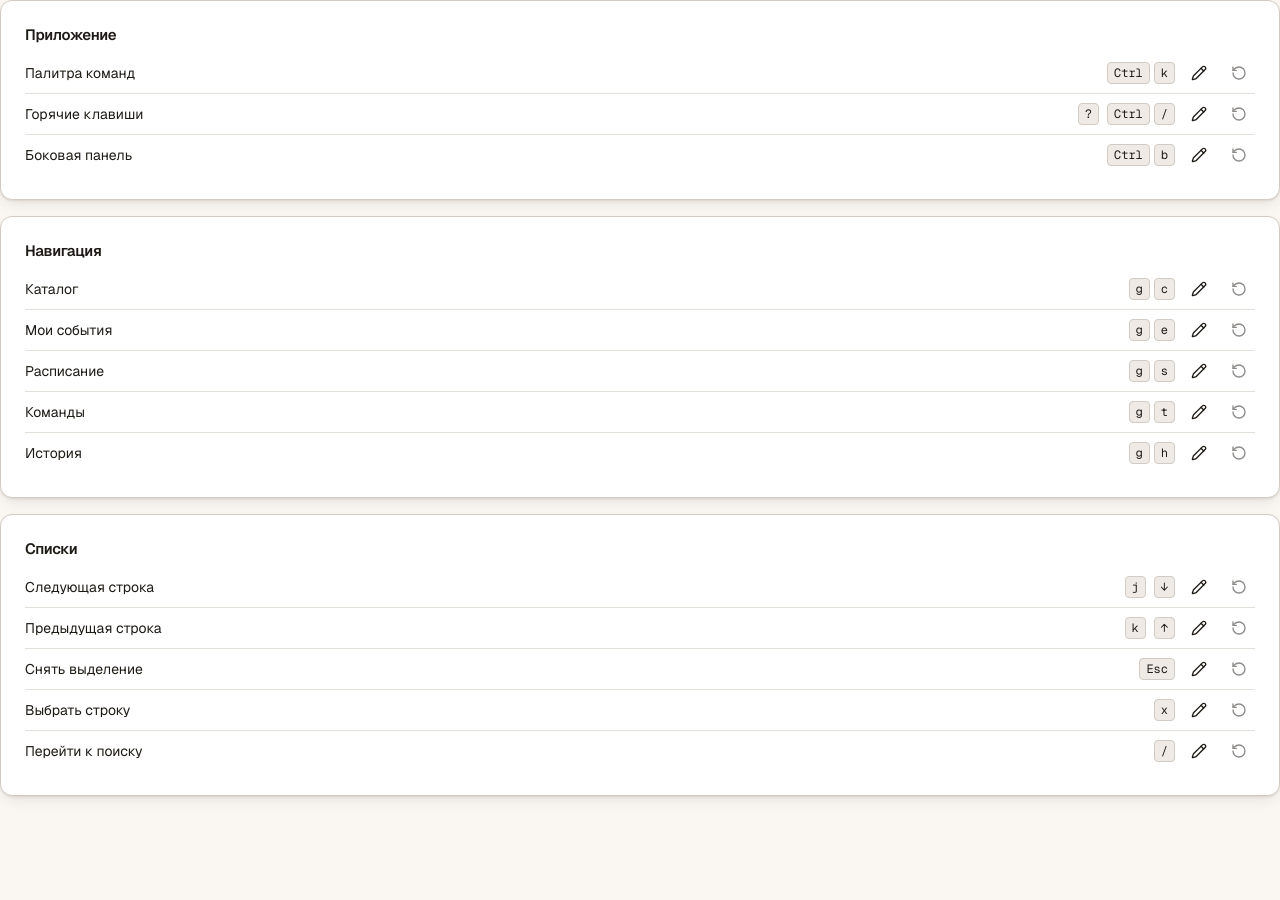
save, cancel and revert while recording › stores nothing when the cross is used instead, and puts the old keys back
Click the button named "Изменить «Палитра команд»". click: [1199, 73]
box: [1183,57,1215,89]
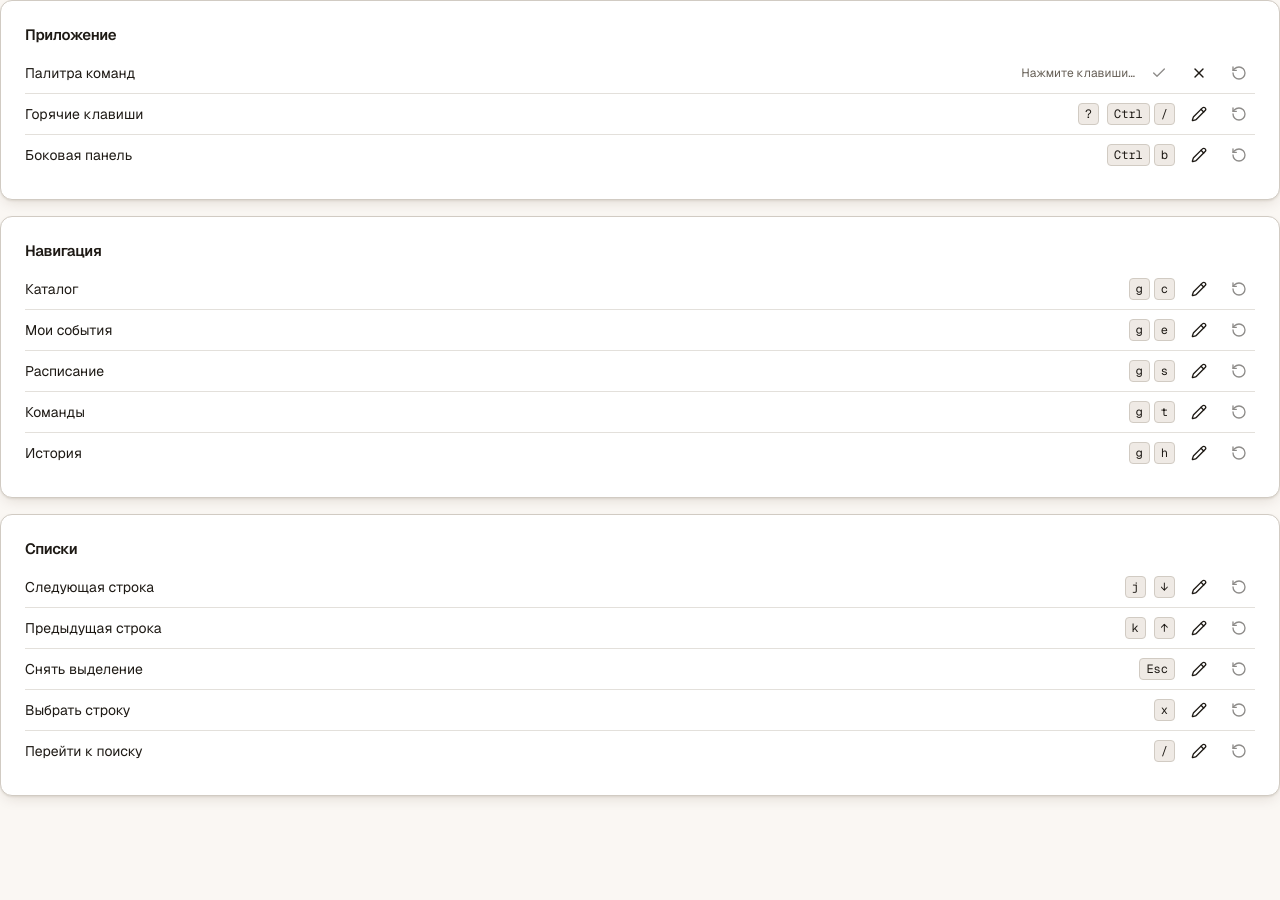
Type keys "{Control>}1{/Control}"
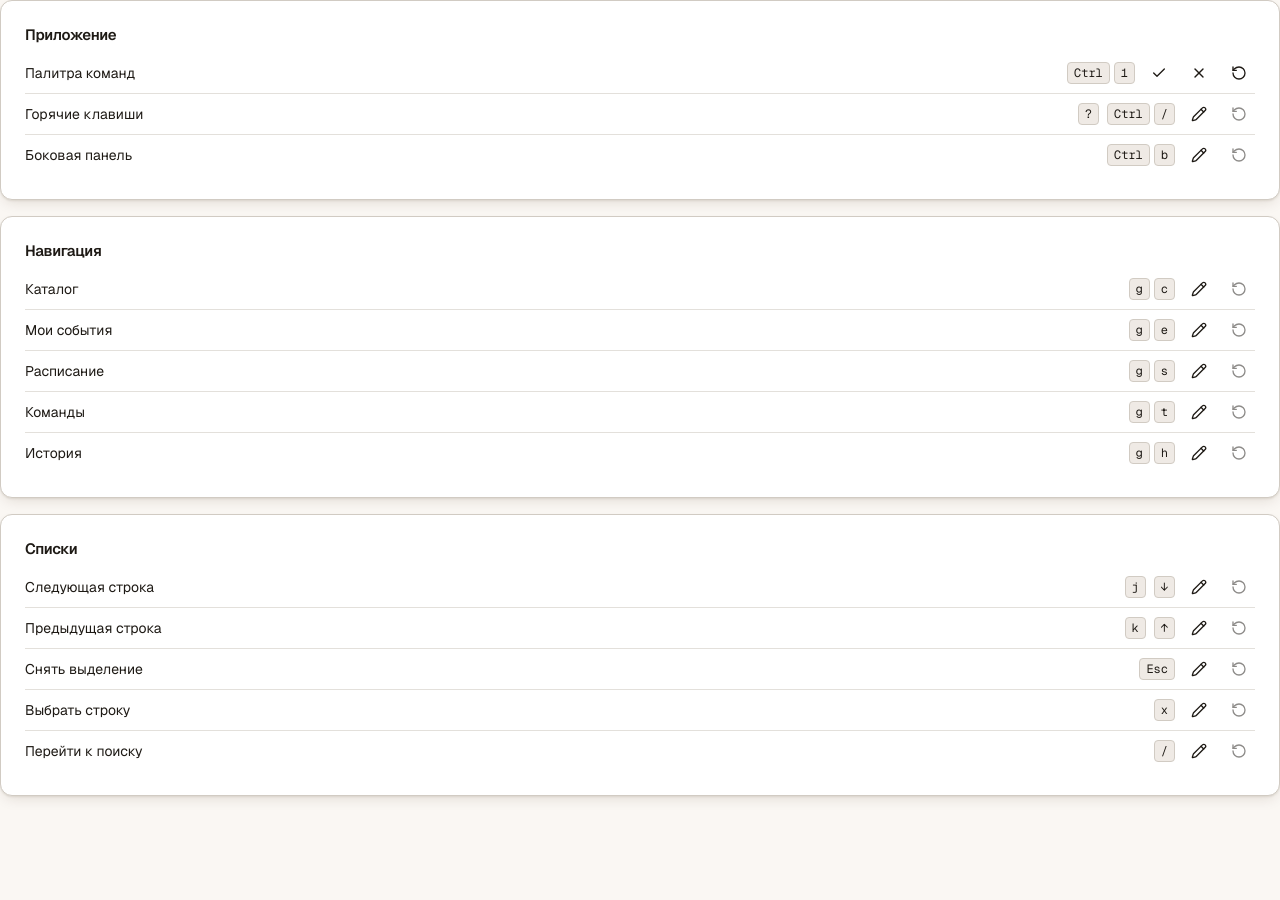
Click the button named "Отменить изменение «Палитра команд»". click: [1199, 73]
box: [1183,57,1215,89]
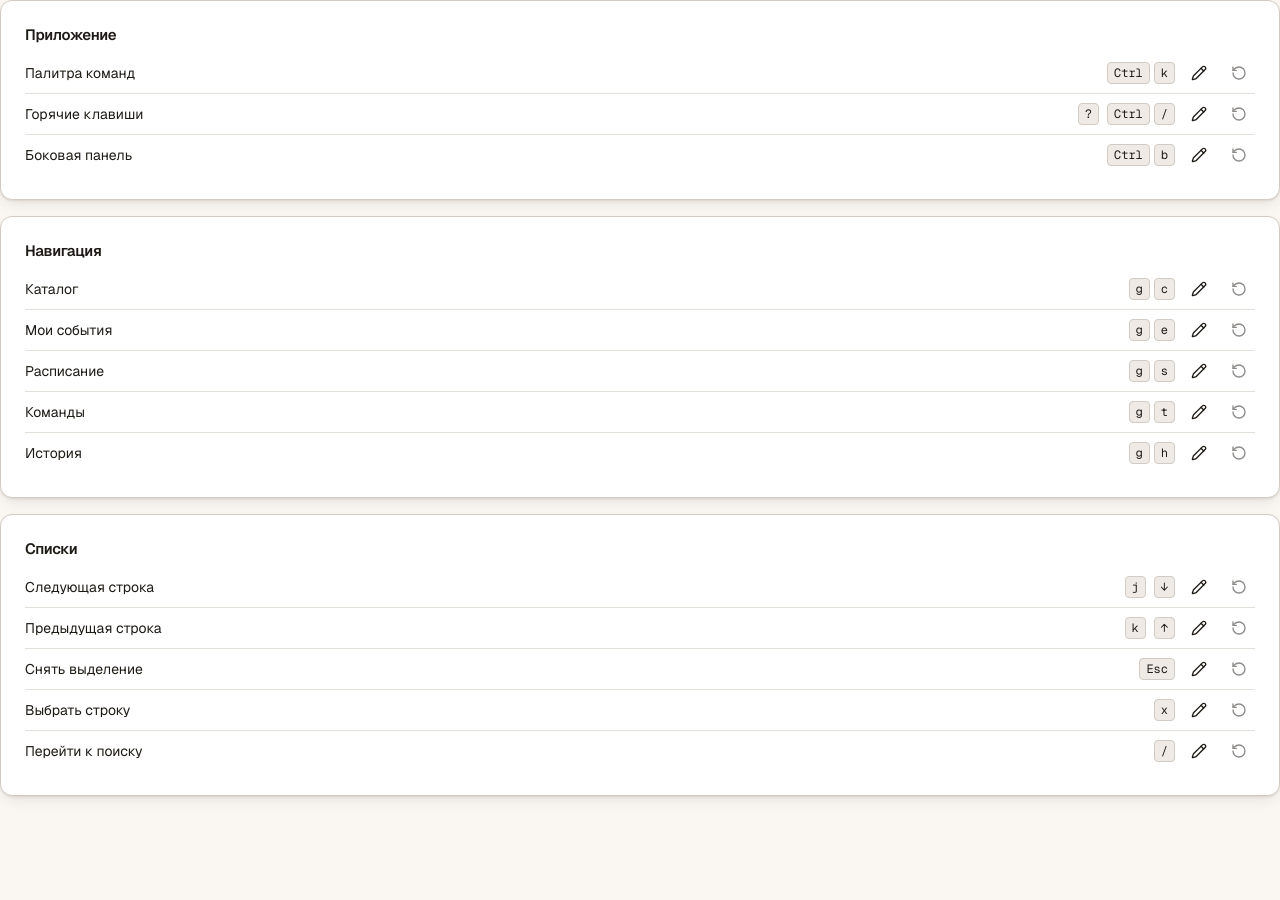
Expected: the text "k" in the row of "Палитра команд" is shown, [1161,65,1168,81]
